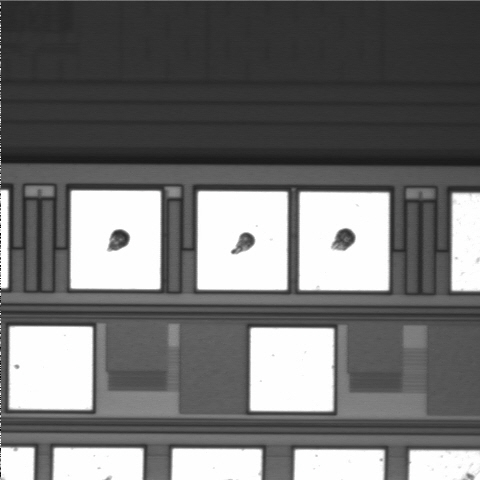pad: (70, 190, 161, 289), (197, 191, 288, 290), (299, 192, 389, 291), (9, 326, 93, 410), (250, 328, 334, 411)
